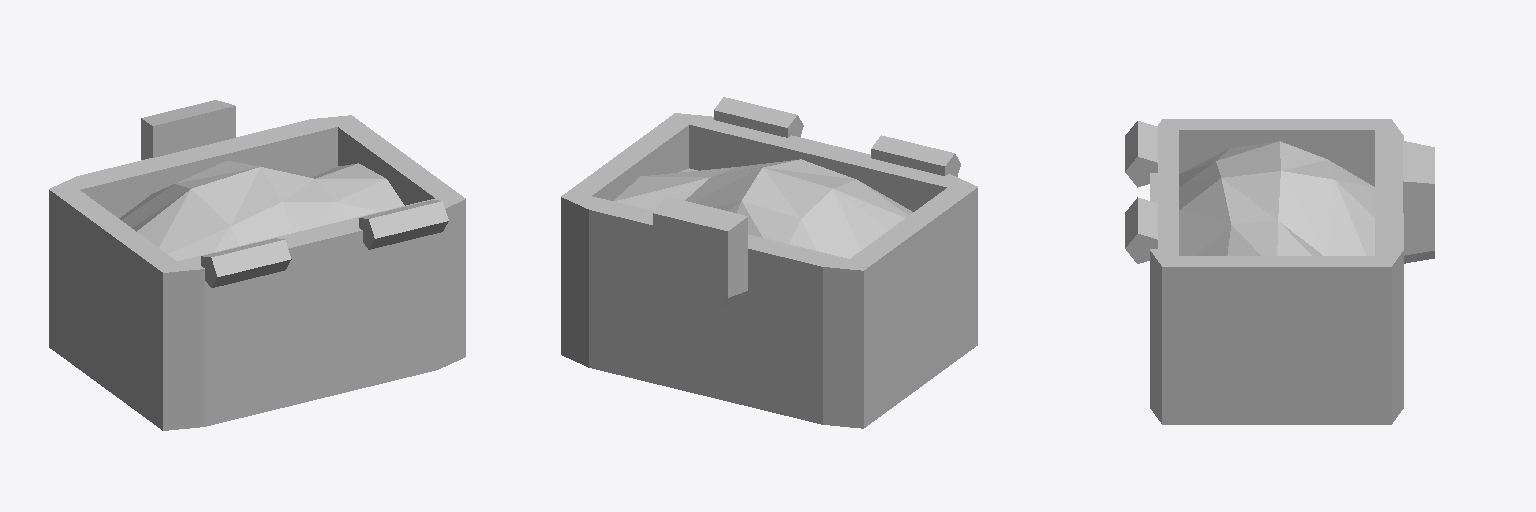
Rendered from Treasure_Chest_Base_02.obj.
The picture shows the model from 3 angles: view 1: azimuth 30°, elevation 25°; view 2: azimuth 150°, elevation 25°; view 3: azimuth 270°, elevation 25°; orthographic projection.
Parts seen in each view (by area): view 1: Treasure_Chest_Base_02; view 2: Treasure_Chest_Base_02; view 3: Treasure_Chest_Base_02.
Boxes of the visible parts, x1=… form: Treasure_Chest_Base_02: x1=49, y1=100, x2=465, y2=430; Treasure_Chest_Base_02: x1=561, y1=97, x2=977, y2=428; Treasure_Chest_Base_02: x1=1125, y1=119, x2=1434, y2=424.
Bounding box in the file's own units: 0.8887 × 0.5321 × 0.7863.